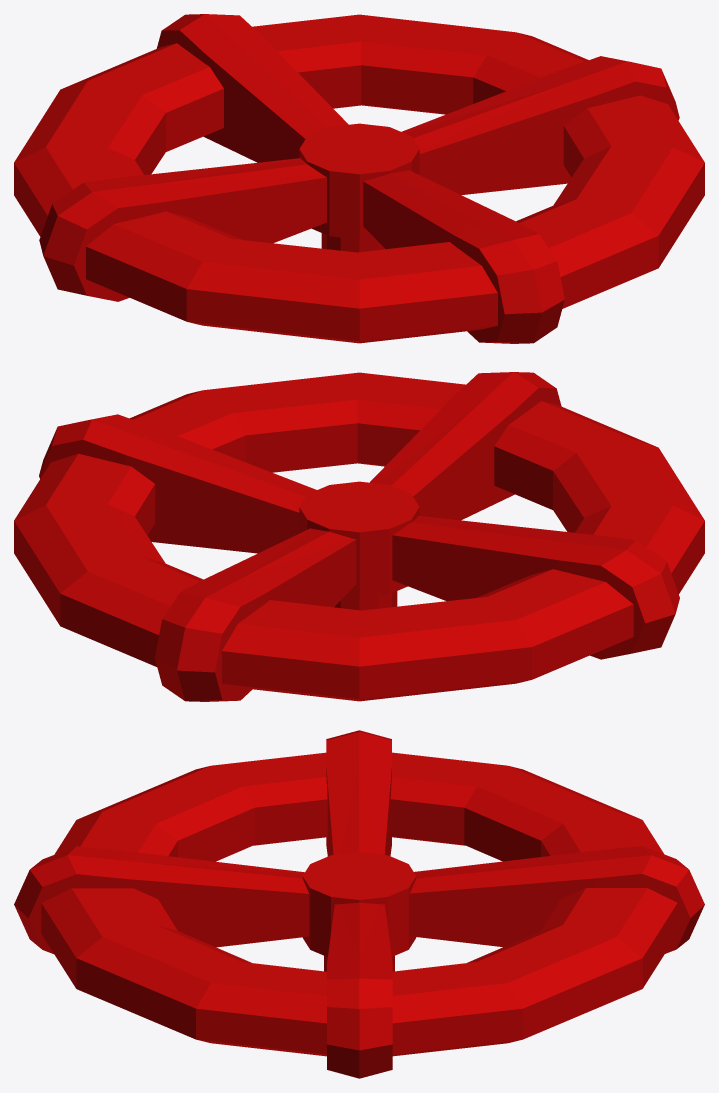
The model's file is Prop_Industrial_Pipe_Valve_Handle_04.FBX.
3 renders of one model, top to bottom at view 1: azimuth 30°, elevation 25°; view 2: azimuth 150°, elevation 25°; view 3: azimuth 270°, elevation 25°, orthographic. The views are drawn at different scales.
Visible parts, largest first — view 1: Prop_Industrial_Pipe_Valve_Handle_04; view 2: Prop_Industrial_Pipe_Valve_Handle_04; view 3: Prop_Industrial_Pipe_Valve_Handle_04.
Boxes of the visible parts, <box> form: Prop_Industrial_Pipe_Valve_Handle_04: <box>14,14,704,343</box>; Prop_Industrial_Pipe_Valve_Handle_04: <box>14,372,704,701</box>; Prop_Industrial_Pipe_Valve_Handle_04: <box>14,730,704,1078</box>.
Bounding box in the file's own units: 703 × 179 × 703.
